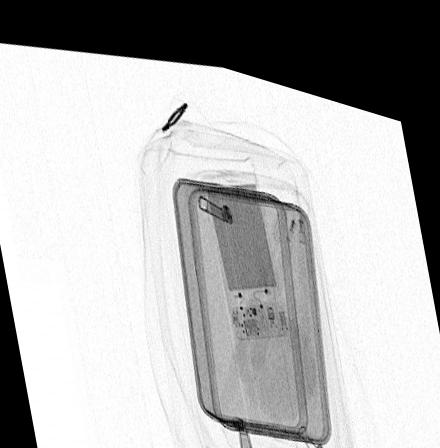Powerbank: (197, 164, 289, 328)
